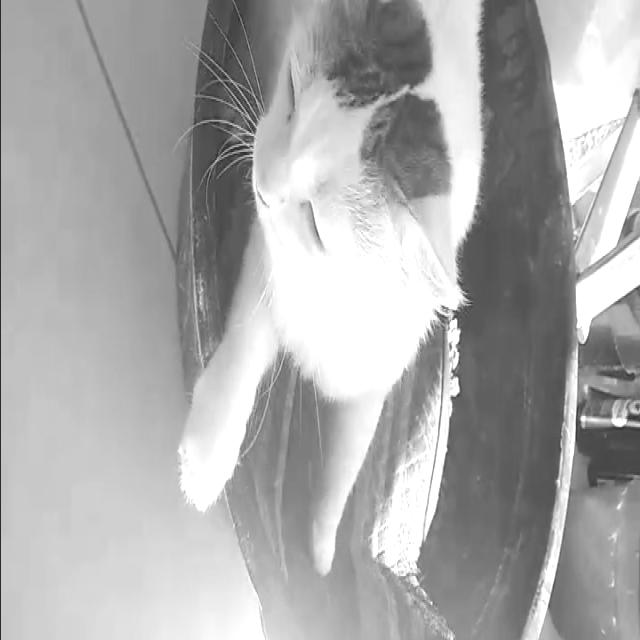Simba: (171, 9, 501, 556)
